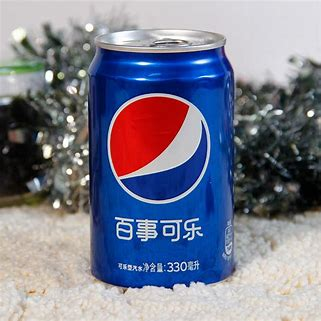Pepsi: (86, 25, 236, 289)
